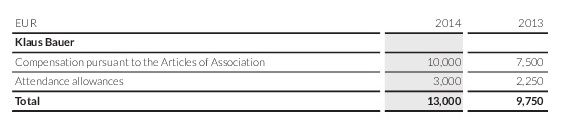table: (0, 0, 570, 128)
